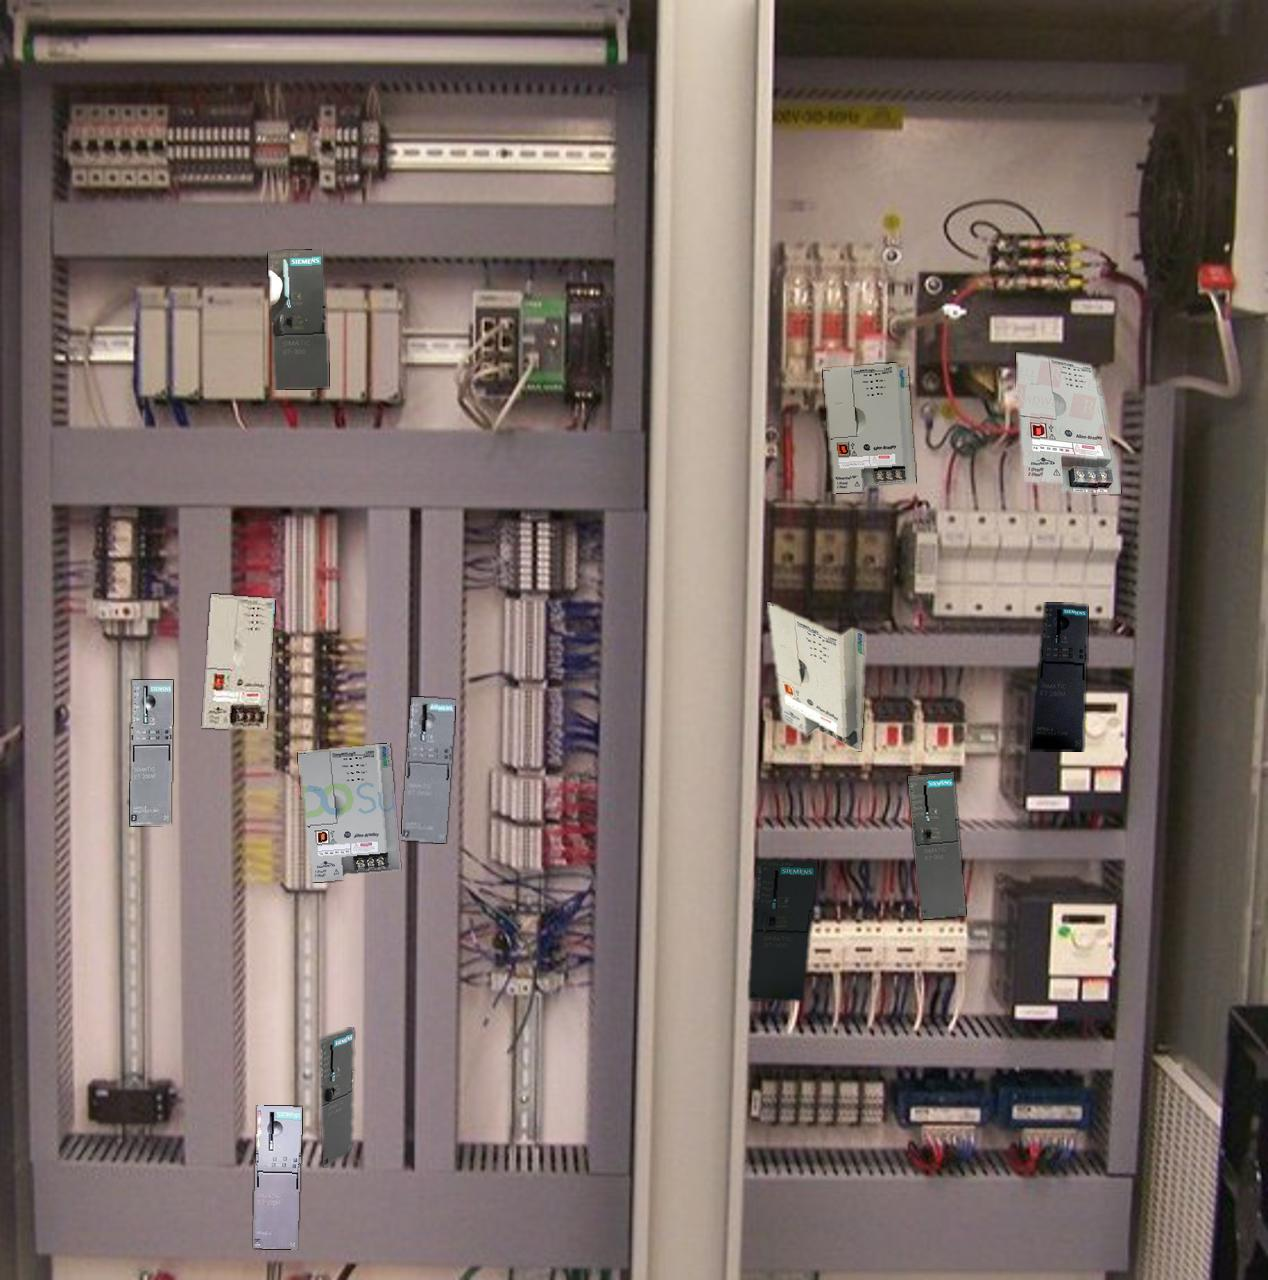AllenBradley: (1016, 352, 1121, 492), (768, 602, 864, 750), (298, 743, 399, 880), (823, 364, 915, 492), (202, 594, 274, 728)
Siemens: (749, 860, 817, 1000), (908, 772, 965, 919), (268, 249, 327, 389), (320, 1027, 353, 1167)
